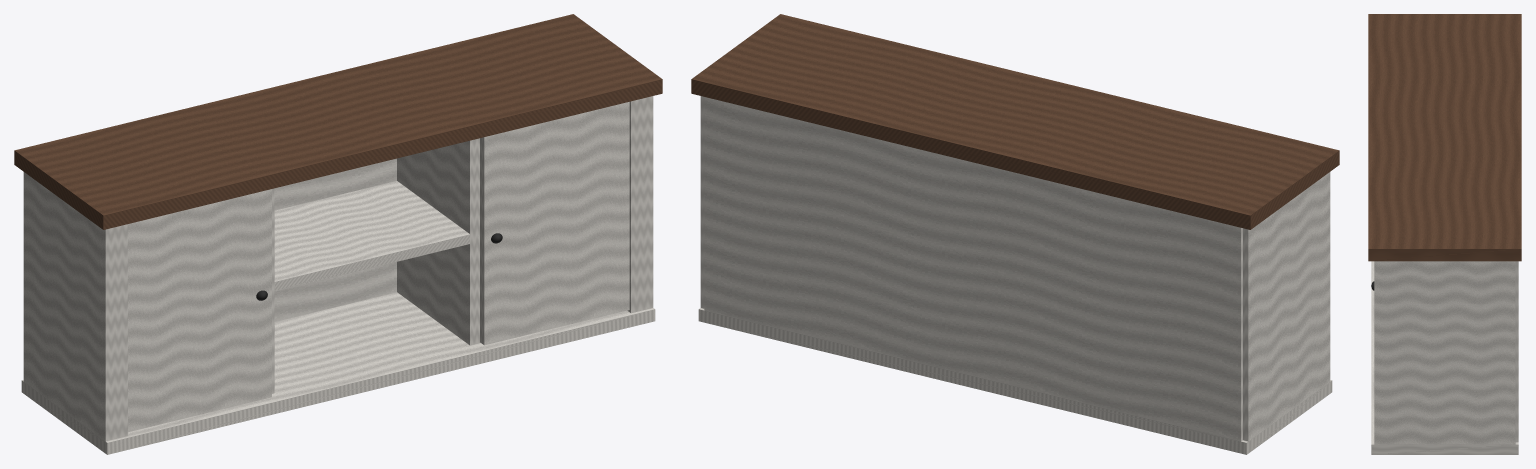
The picture shows the model from 3 angles, left to right: view 1: azimuth 30°, elevation 25°; view 2: azimuth 150°, elevation 25°; view 3: azimuth 270°, elevation 25°; orthographic projection. The views are drawn at different scales.
Parts seen in each view (by area): view 1: 1 tabletop, 12 right_barn_door, 11 left_barn_door, 2 bottom_plinth, 4 left_side_panel, 8 center_shelf, 7 right_divider_panel, 3 back_panel, 5 right_side_panel; view 2: 3 back_panel, 1 tabletop, 4 left_side_panel, 2 bottom_plinth, 5 right_side_panel; view 3: 1 tabletop, 5 right_side_panel, 2 bottom_plinth, 3 back_panel.
Boxes of the visible parts, x1,y1,x2,y2 form: 1 tabletop: [14, 14, 662, 229]; 12 right_barn_door: [480, 102, 629, 345]; 11 left_barn_door: [128, 189, 271, 432]; 2 bottom_plinth: [21, 292, 655, 454]; 4 left_side_panel: [23, 172, 127, 441]; 8 center_shelf: [274, 181, 469, 291]; 7 right_divider_panel: [397, 138, 480, 345]; 3 back_panel: [274, 158, 396, 321]; 5 right_side_panel: [627, 96, 653, 313]; 3 back_panel: [704, 97, 1242, 441]; 1 tabletop: [691, 14, 1339, 229]; 4 left_side_panel: [1243, 172, 1330, 441]; 2 bottom_plinth: [698, 308, 1332, 454]; 5 right_side_panel: [700, 96, 704, 308]; 1 tabletop: [1368, 14, 1521, 261]; 5 right_side_panel: [1374, 261, 1515, 444]; 2 bottom_plinth: [1371, 261, 1518, 454]; 3 back_panel: [1515, 261, 1518, 442].
Bounding box in the file's own units: 1.47 × 0.6096 × 0.4064.
Materials: 3 (2 with a texture image).
